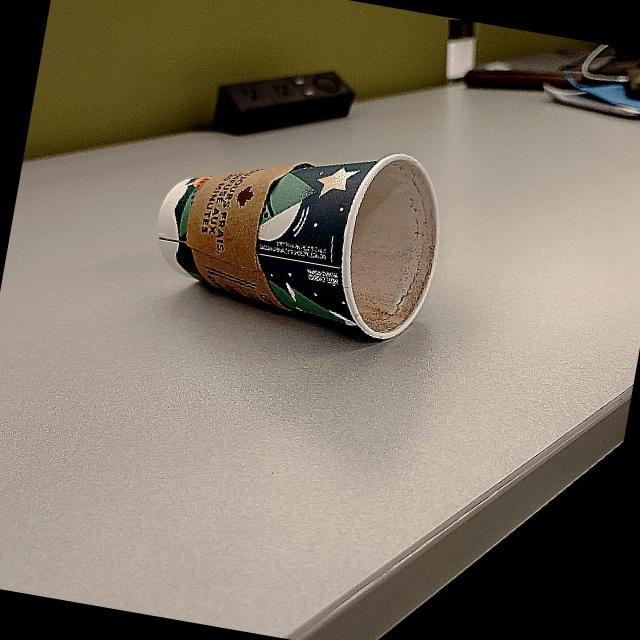timmies: (158, 139, 460, 346)
